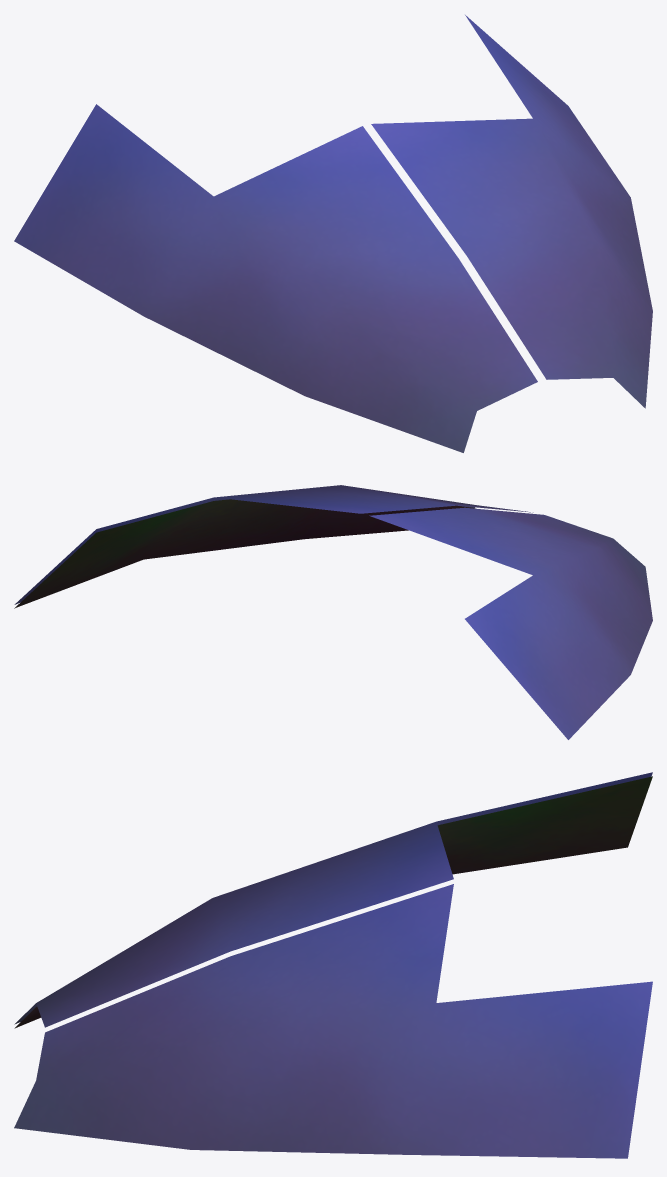
Rendered from settler_transport_glass.DAE.
The picture shows the model from 3 angles, top to bottom: view 1: azimuth 30°, elevation 25°; view 2: azimuth 150°, elevation 25°; view 3: azimuth 270°, elevation 25°; orthographic projection. The views are drawn at different scales.
Visible parts, largest first — view 1: Window01; view 2: Window01; view 3: Window01.
Boxes of the visible parts, x1=… form: Window01: x1=14, y1=15, x2=652, y2=452; Window01: x1=14, y1=485, x2=652, y2=739; Window01: x1=14, y1=772, x2=652, y2=1158.
Size of the model in its own units: 14.12 by 4.25 by 12.09.
